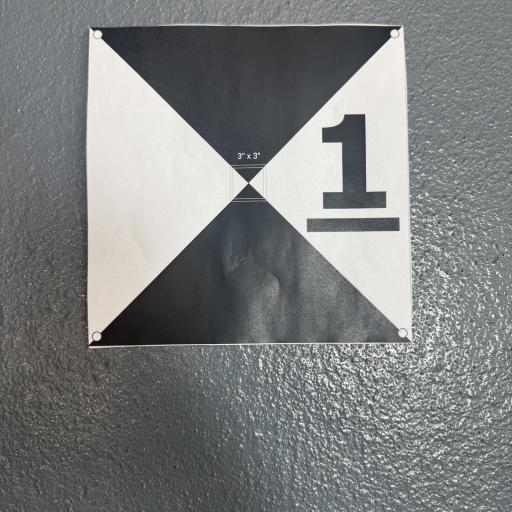target1: (82, 22, 416, 346)
